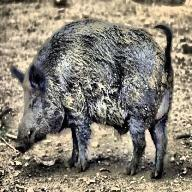boar: (10, 16, 182, 185)
